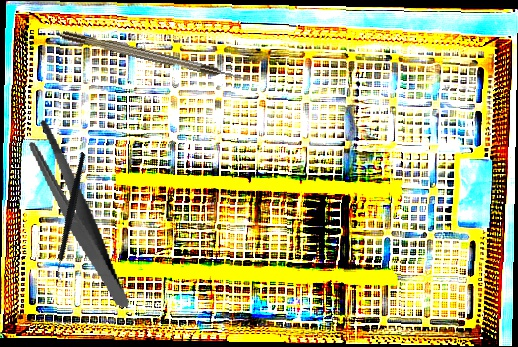Chopper: (17, 151, 128, 284)
Dressing Forceps: (25, 110, 130, 320)
Hook Surgical: (61, 29, 249, 85)
